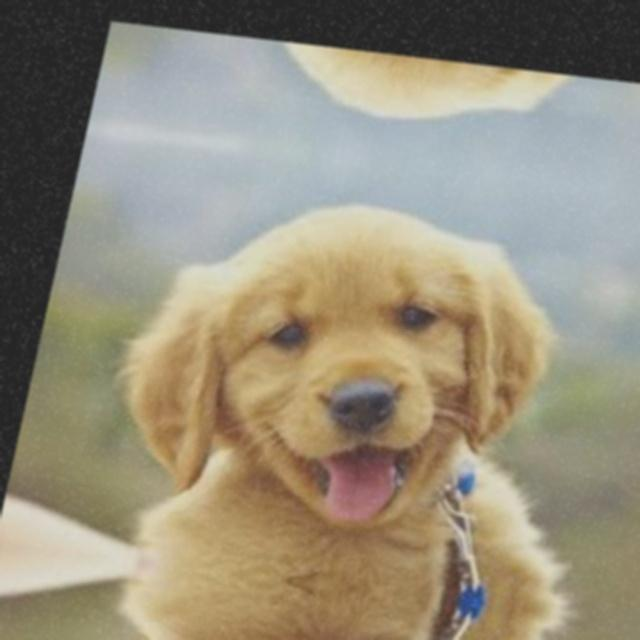dog: (70, 158, 614, 548), (155, 29, 640, 164), (33, 612, 513, 640)
